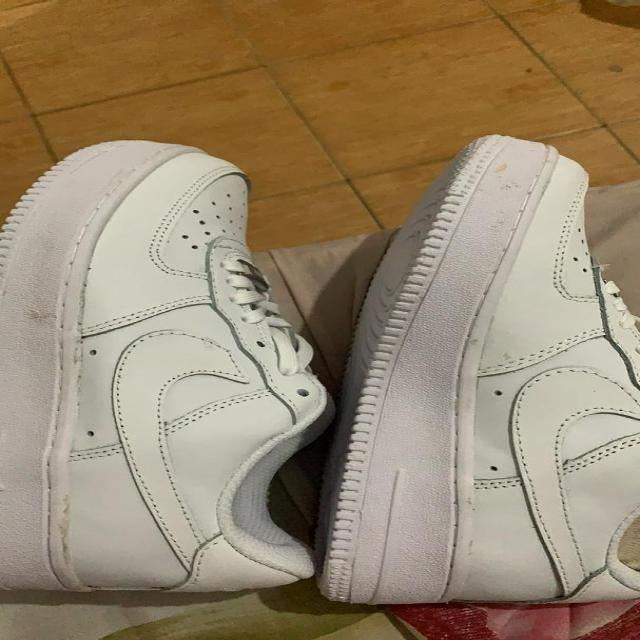nike original air force: (313, 130, 636, 606), (0, 139, 337, 594)
